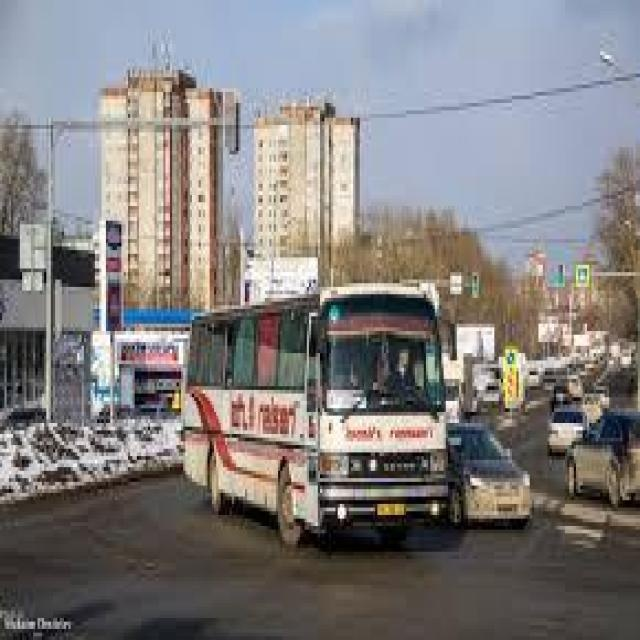Bus: (172, 265, 461, 563)
